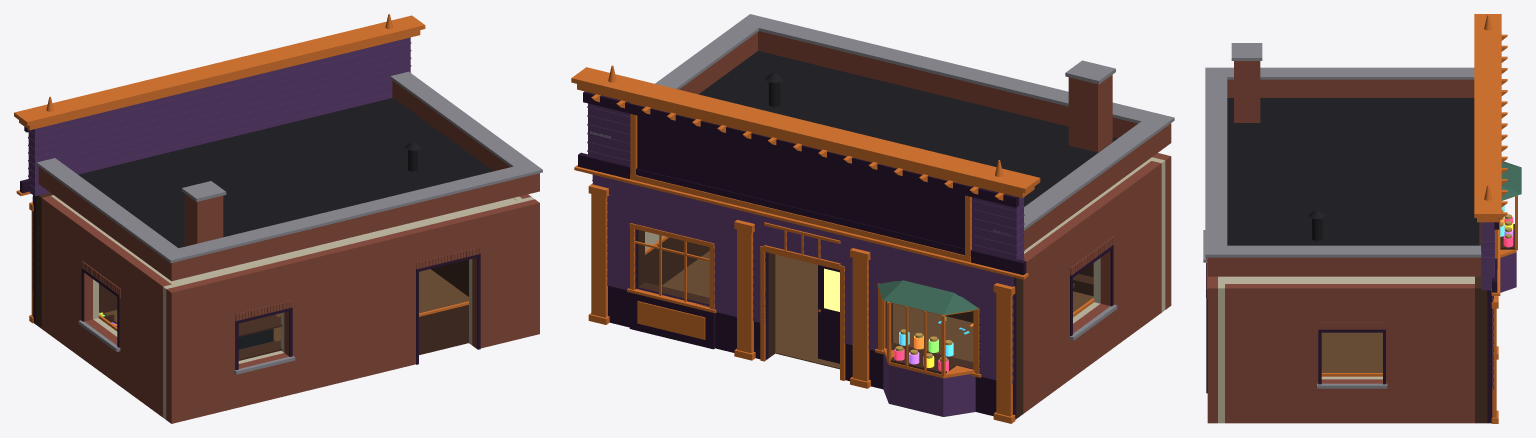
File: hg-candyshop.glb
3 renders of one model, left to right at view 1: azimuth 30°, elevation 25°; view 2: azimuth 150°, elevation 25°; view 3: azimuth 270°, elevation 25°, orthographic. The views are drawn at different scales.
Visible parts, largest first — view 1: hg-candyshop; view 2: hg-candyshop; view 3: hg-candyshop.
Part boxes in pixels (box(x1,y1,x2,y2)): hg-candyshop: box(14, 14, 542, 423); hg-candyshop: box(571, 14, 1174, 423); hg-candyshop: box(1203, 14, 1521, 423).
Size of the model in its own units: 10.8 by 5.8 by 7.27.
